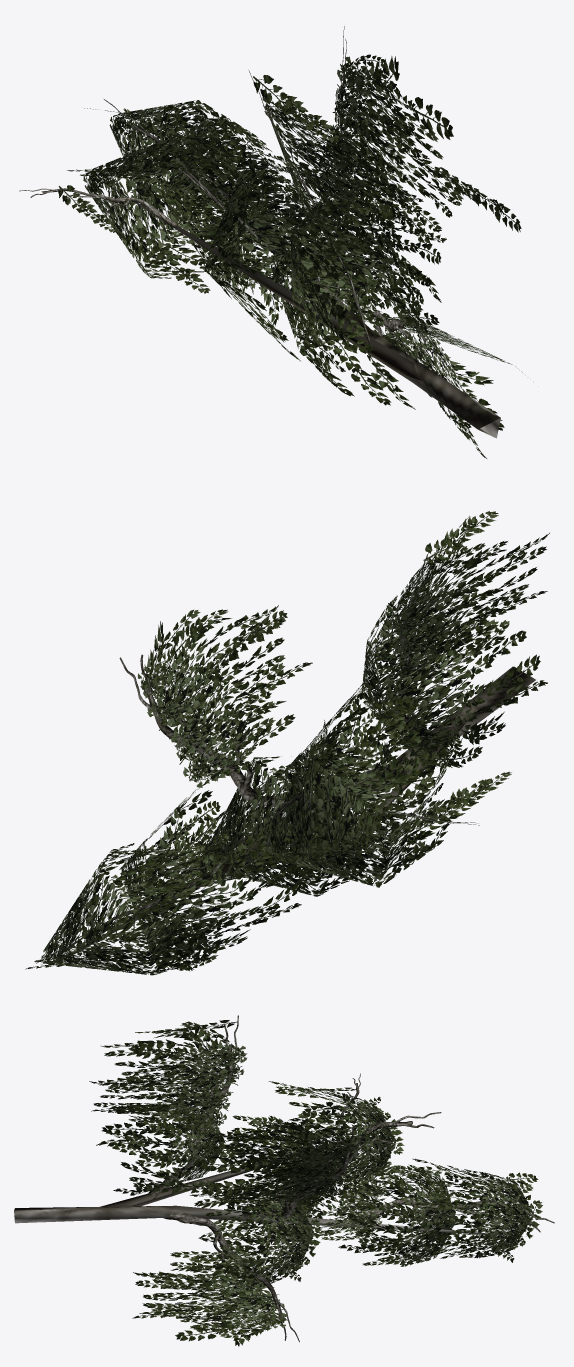
File: MEP_Birch_01_b_LOD_01.fbx
3 renders of one model, top to bottom at view 1: azimuth 30°, elevation 25°; view 2: azimuth 150°, elevation 25°; view 3: azimuth 270°, elevation 25°, orthographic. The views are drawn at different scales.
Parts seen in each view (by area): view 1: MEP_Birch_01_b_LOD_01; view 2: MEP_Birch_01_b_LOD_01; view 3: MEP_Birch_01_b_LOD_01.
Part boxes in pixels (box(x1,y1,x2,y2)): MEP_Birch_01_b_LOD_01: box(19, 26, 522, 458); MEP_Birch_01_b_LOD_01: box(25, 511, 549, 975); MEP_Birch_01_b_LOD_01: box(14, 1015, 554, 1346).
Bounding box in the file's own units: 8.39 × 7.83 × 14.6.
